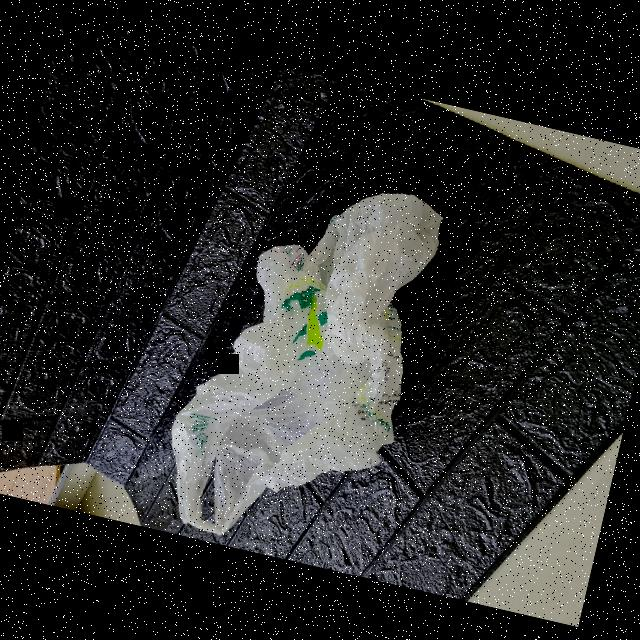plastic_bag: (148, 149, 452, 568)
